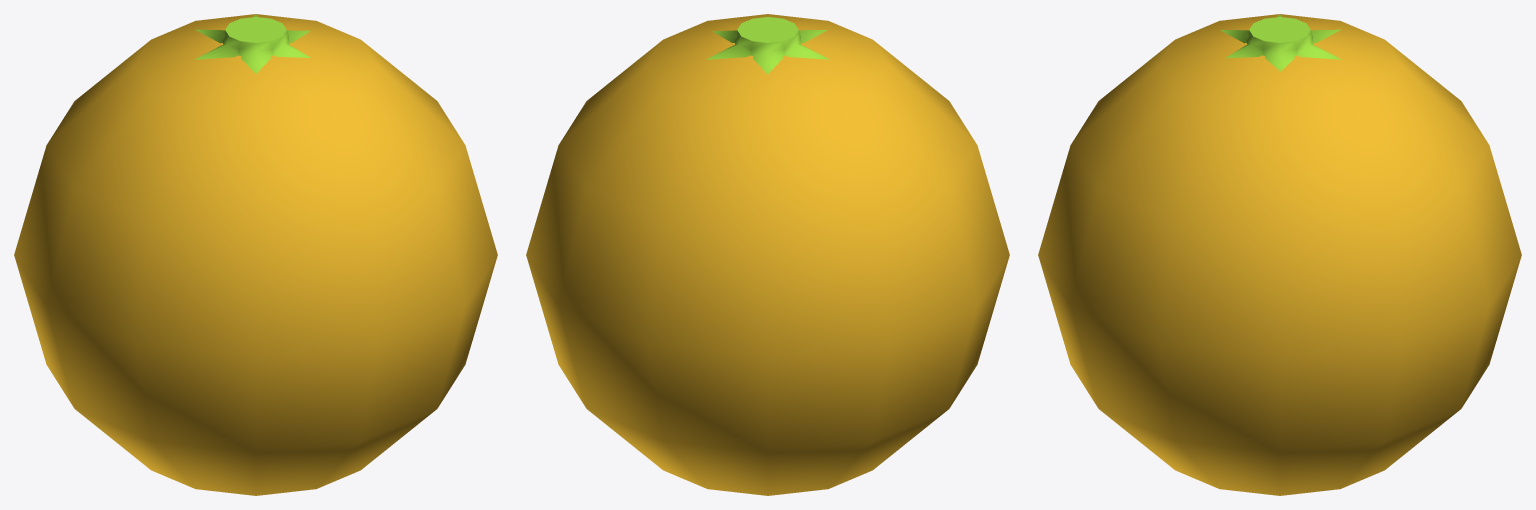
The model's file is orange.FBX.
The picture shows the model from 3 angles, left to right: view 1: azimuth 30°, elevation 25°; view 2: azimuth 150°, elevation 25°; view 3: azimuth 270°, elevation 25°; orthographic projection.
Parts seen in each view (by area): view 1: Cylinder001; view 2: Cylinder001; view 3: Cylinder001.
Boxes of the visible parts, box(x1,y1,x2,y2) form: Cylinder001: box(14, 14, 497, 495); Cylinder001: box(526, 14, 1009, 495); Cylinder001: box(1038, 14, 1521, 495).
Size of the model in its own units: 54.17 by 54.07 by 54.17.
